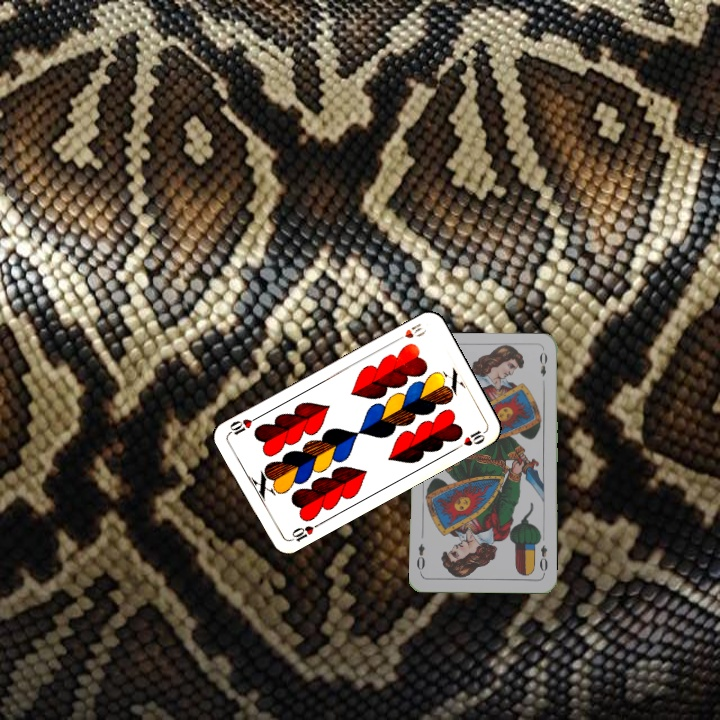EO: (535, 541, 550, 577)
H10: (391, 319, 429, 345), (285, 519, 323, 544)
